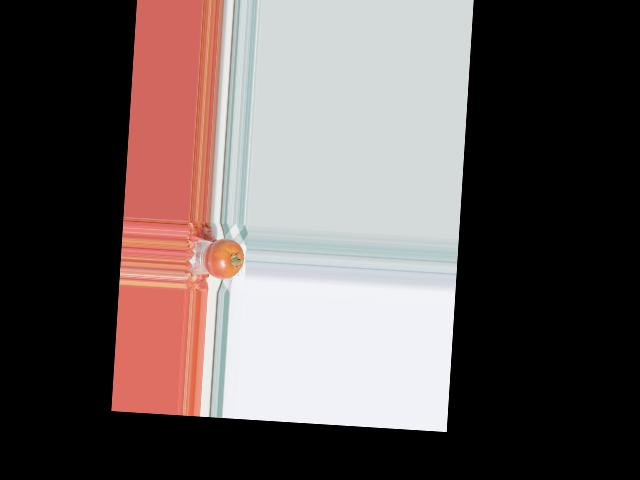tomato: (203, 237, 245, 281)
